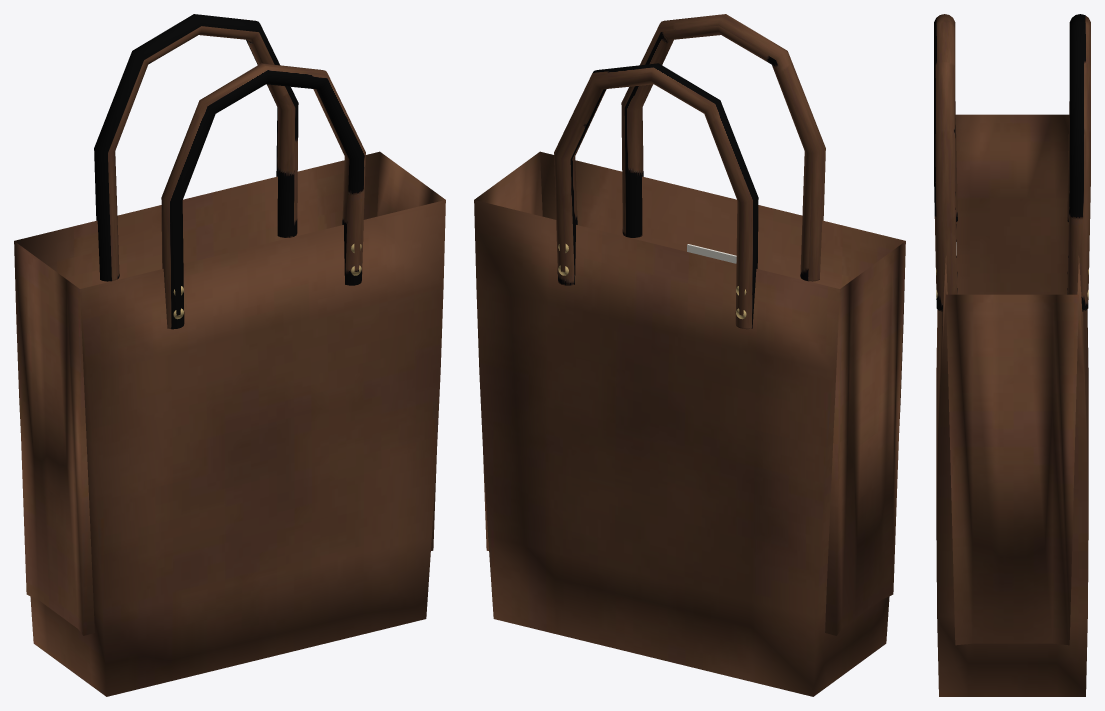
The model's file is atma_tote.glb.
3 views of the same model, side by side, from view 1: azimuth 30°, elevation 25°; view 2: azimuth 150°, elevation 25°; view 3: azimuth 270°, elevation 25° (orthographic).
Visible parts, largest first — view 1: AtmaToteBody, AtmaHandle_0, AtmaHandle_1; view 2: AtmaToteBody, AtmaHandle_1, AtmaHandle_0; view 3: AtmaToteBody, AtmaHandle_0, AtmaHandle_1.
Part boxes in pixels (left/top/right/bottom): AtmaToteBody: left=14, top=151, right=445, bottom=696; AtmaHandle_0: left=161, top=63, right=365, bottom=329; AtmaHandle_1: left=94, top=14, right=298, bottom=281; AtmaToteBody: left=474, top=151, right=905, bottom=696; AtmaHandle_1: left=554, top=63, right=758, bottom=329; AtmaHandle_0: left=621, top=14, right=825, bottom=281; AtmaToteBody: left=936, top=114, right=1088, bottom=696; AtmaHandle_0: left=934, top=14, right=957, bottom=311; AtmaHandle_1: left=1067, top=14, right=1090, bottom=311.
Bounding box in the file's own units: 0.3914 × 0.605 × 0.1443.
Materials: 3 (1 with a texture image).
